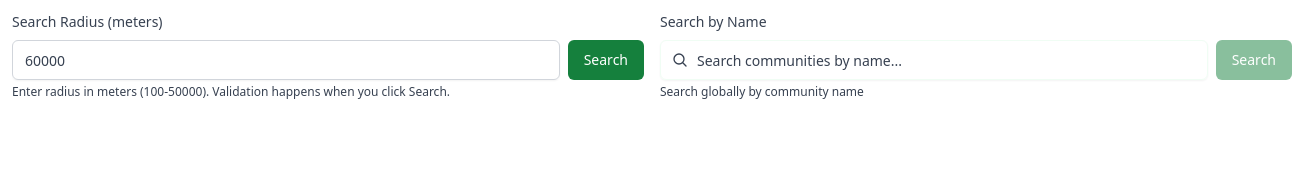
Scenario: CommunitySearchInput › Basic functionality › should validate maximum radius when search button is clicked
The image size is (1304, 172).
Click the 1st button "Search": (606, 60) [568,40,644,80]
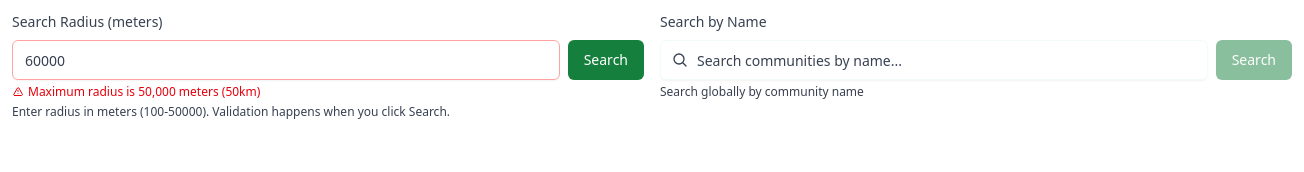
Now the text "Maximum radius is 50,000 meters (50km)" is shown, box [12,83,260,100]
